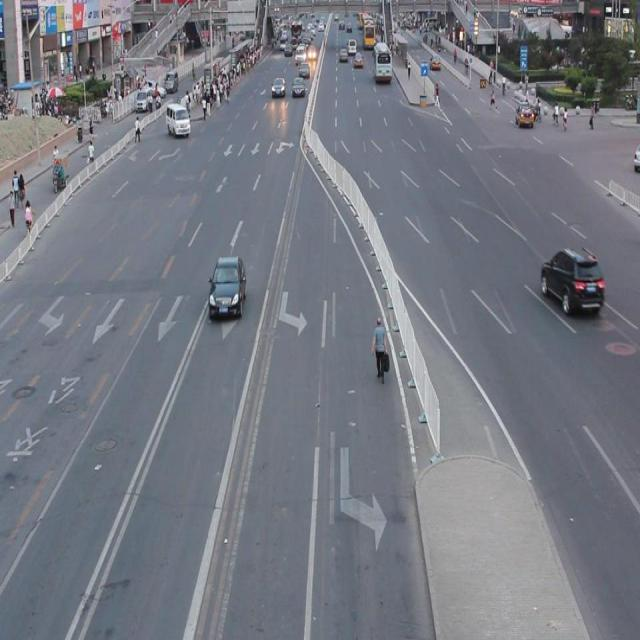car: (540, 245, 604, 316), (208, 255, 245, 320)
